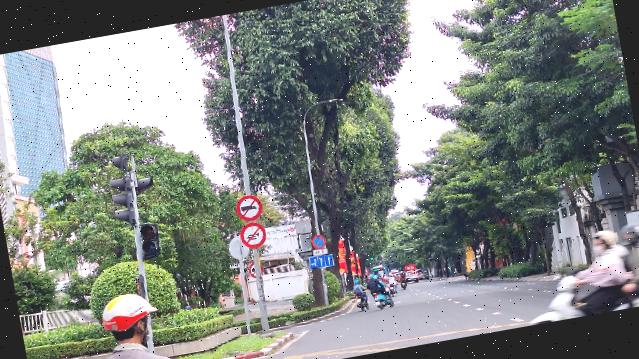cam-bop-coi: (237, 220, 268, 250)
cam-do-xe: (310, 233, 327, 250)
